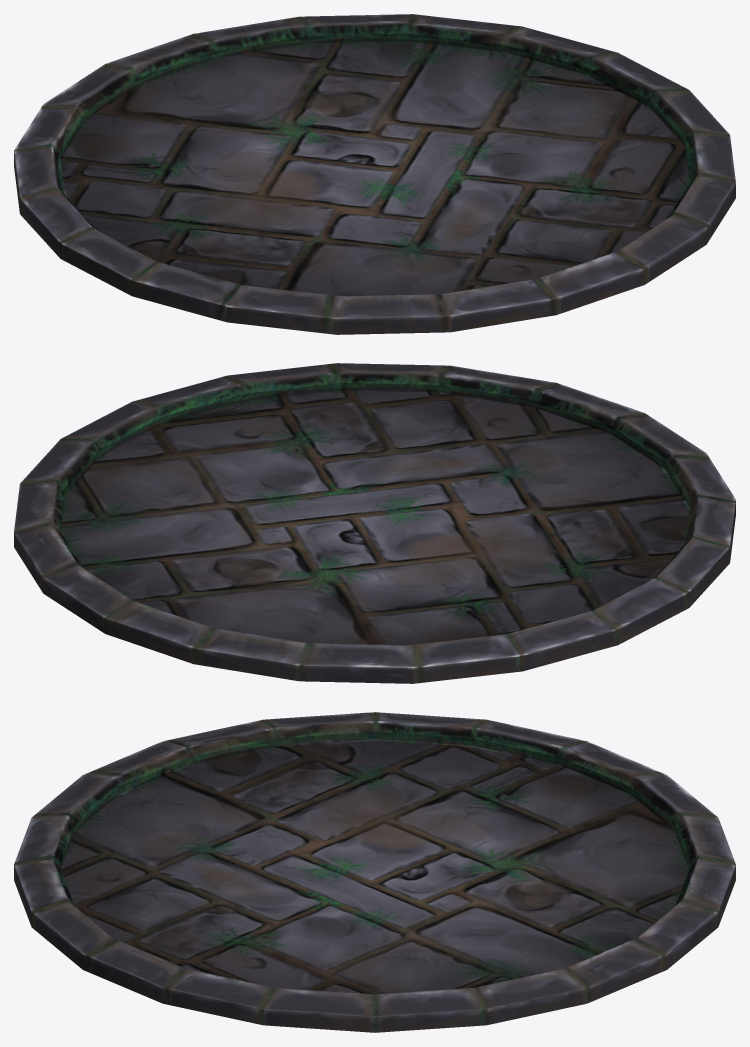
Rendered from EtheriumGate_Model.fbx.
3 views of the same model, one above another, from view 1: azimuth 30°, elevation 25°; view 2: azimuth 150°, elevation 25°; view 3: azimuth 270°, elevation 25° (orthographic).
Parts seen in each view (by area): view 1: EtheriumGate_Model; view 2: EtheriumGate_Model; view 3: EtheriumGate_Model.
Part boxes in pixels (bbox=[...]): EtheriumGate_Model: bbox=[14, 14, 735, 334]; EtheriumGate_Model: bbox=[14, 363, 735, 683]; EtheriumGate_Model: bbox=[14, 712, 735, 1032].
Bounding box in the file's own units: 17000 × 589 × 17000.
